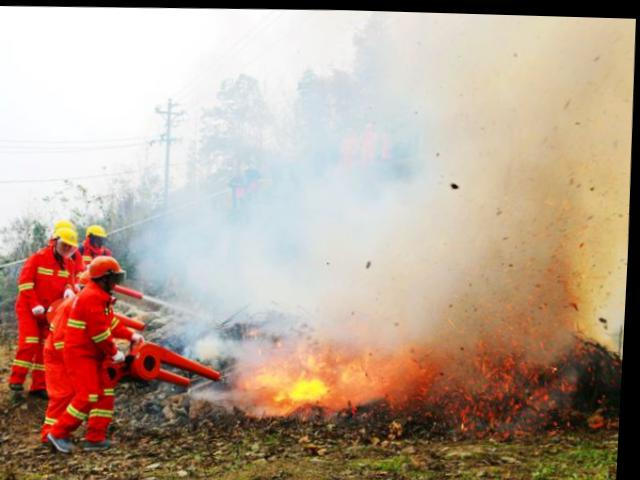fire: (245, 330, 594, 430)
